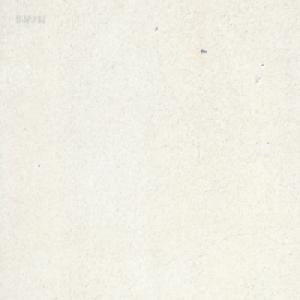Nail: (200, 47, 207, 53)
